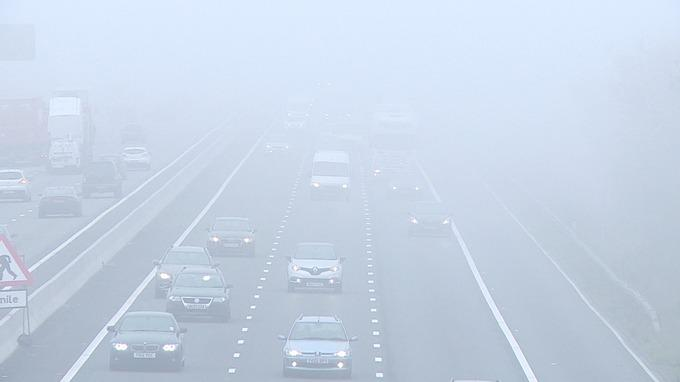bus: (40, 94, 96, 176)
car: (276, 311, 361, 380), (106, 310, 189, 373), (160, 265, 234, 324), (152, 245, 216, 299), (284, 239, 346, 293), (206, 217, 257, 258), (310, 150, 351, 199), (80, 158, 124, 199), (406, 201, 452, 239), (37, 187, 83, 219), (1, 168, 32, 202), (388, 174, 423, 203), (263, 134, 292, 158), (123, 146, 151, 170)
